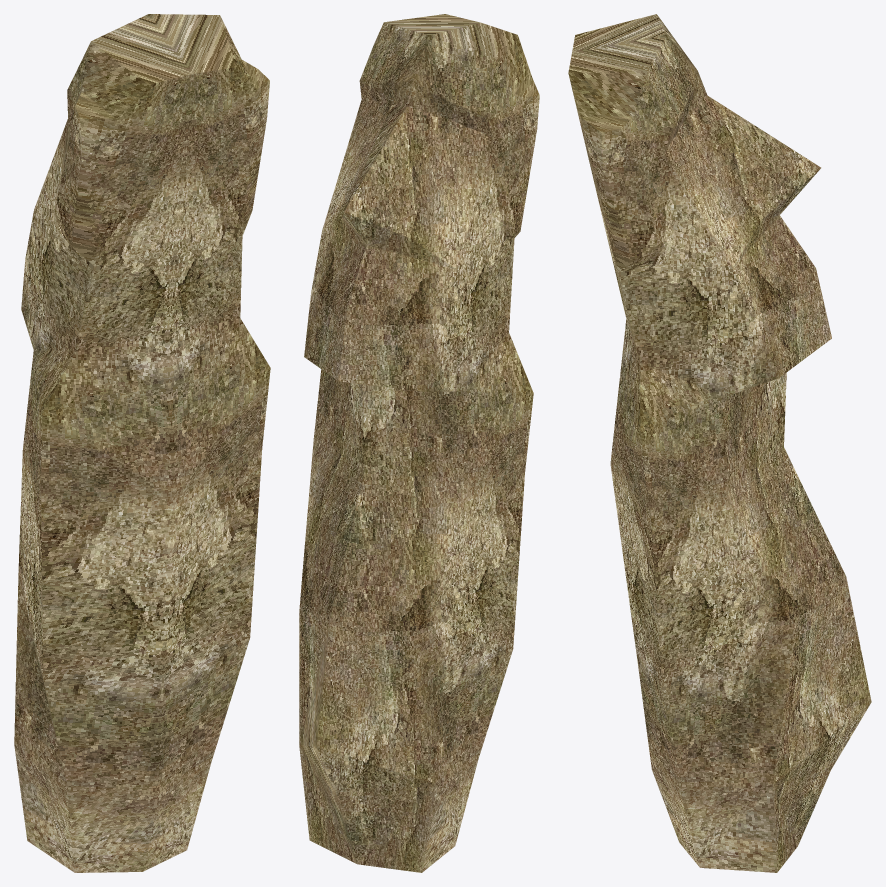
The model's file is stage-east-p7-123.glb.
3 renders of one model, left to right at view 1: azimuth 30°, elevation 25°; view 2: azimuth 150°, elevation 25°; view 3: azimuth 270°, elevation 25°, orthographic. The views are drawn at different scales.
Bounding box in the file's own units: 7.79 × 29.42 × 10.02.
Materials: 1 (1 with a texture image).
